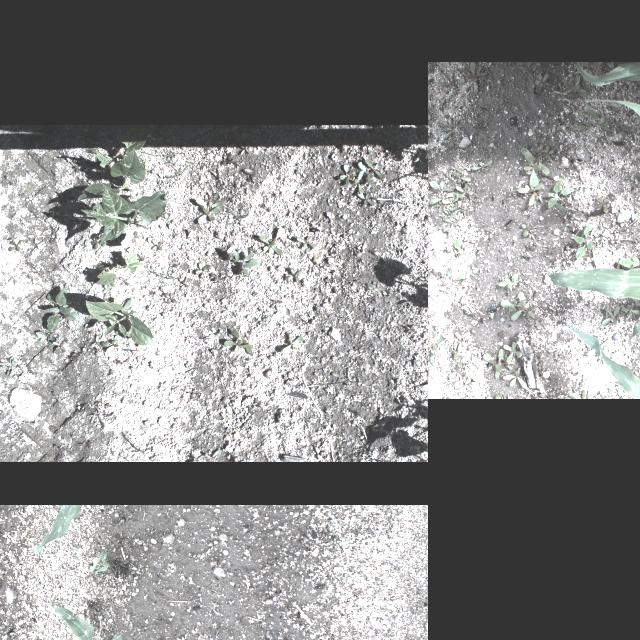crop: (544, 215, 640, 348), (574, 62, 640, 229), (80, 183, 168, 247), (563, 327, 640, 399), (78, 132, 146, 200), (50, 596, 123, 640), (85, 301, 151, 345), (95, 252, 143, 286), (92, 550, 110, 572)
weed: (44, 288, 80, 332), (516, 142, 552, 186), (498, 292, 538, 328), (540, 178, 574, 212), (570, 218, 596, 256), (194, 191, 223, 225), (482, 350, 511, 380), (232, 249, 260, 277), (223, 328, 253, 354), (339, 162, 363, 194), (613, 251, 640, 278), (436, 210, 464, 236), (517, 179, 543, 207), (461, 64, 484, 94), (357, 160, 385, 184), (586, 108, 614, 132), (258, 228, 282, 255), (561, 111, 587, 135), (148, 146, 192, 158), (559, 80, 587, 98), (438, 71, 464, 89), (428, 331, 444, 360), (438, 115, 458, 138), (468, 154, 492, 172), (166, 158, 187, 178), (492, 274, 518, 290), (500, 373, 526, 389), (0, 357, 20, 377), (502, 341, 522, 361), (443, 266, 465, 284), (515, 222, 537, 240), (429, 180, 453, 196), (594, 192, 610, 215), (282, 336, 302, 354), (113, 298, 133, 316), (600, 305, 616, 327), (98, 336, 119, 352), (531, 70, 549, 88), (356, 190, 376, 206), (452, 376, 472, 392), (296, 235, 318, 249), (35, 330, 53, 346), (455, 182, 473, 198), (447, 240, 467, 254), (551, 346, 571, 360), (566, 388, 594, 398), (623, 305, 640, 321), (194, 263, 210, 279), (196, 451, 220, 461), (381, 254, 395, 270), (285, 268, 301, 282), (90, 237, 106, 251), (448, 362, 462, 378), (208, 578, 222, 594), (429, 194, 453, 203), (364, 138, 376, 154), (234, 209, 246, 225), (376, 572, 394, 582), (453, 334, 463, 351), (51, 340, 65, 352), (162, 292, 176, 304), (90, 334, 102, 348), (239, 142, 251, 154), (8, 240, 22, 250), (179, 276, 189, 290), (96, 292, 110, 302), (458, 358, 472, 368), (456, 173, 470, 183), (367, 281, 378, 293), (270, 299, 282, 309), (452, 340, 458, 360), (532, 145, 544, 155), (102, 282, 116, 290), (444, 198, 458, 206), (152, 240, 162, 250), (261, 316, 269, 326), (210, 274, 220, 282), (450, 164, 460, 172), (184, 596, 192, 606), (330, 146, 336, 158), (546, 147, 552, 159), (215, 328, 222, 338), (488, 394, 500, 398), (74, 542, 80, 550), (414, 568, 420, 574), (174, 230, 176, 238)
